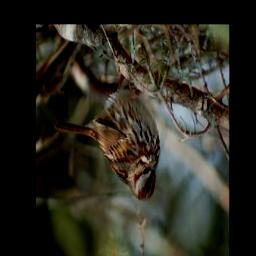Sparrow: (53, 62, 161, 205)
